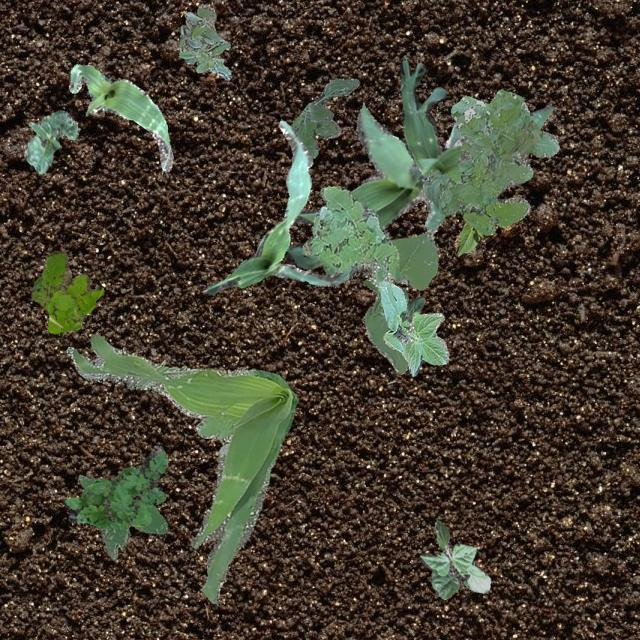crop: (283, 104, 462, 268), (203, 120, 349, 294), (398, 58, 554, 184), (68, 64, 172, 170), (362, 230, 438, 374), (378, 280, 448, 374), (418, 520, 489, 598), (22, 110, 76, 172), (452, 220, 484, 256)
weed: (66, 333, 296, 604), (421, 88, 558, 234), (300, 185, 402, 286), (64, 444, 168, 526), (76, 474, 168, 558), (31, 250, 102, 332), (291, 78, 358, 158), (178, 2, 230, 78), (402, 290, 424, 322)
